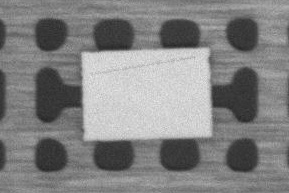DIE_CRACK: (136, 38, 289, 49)
